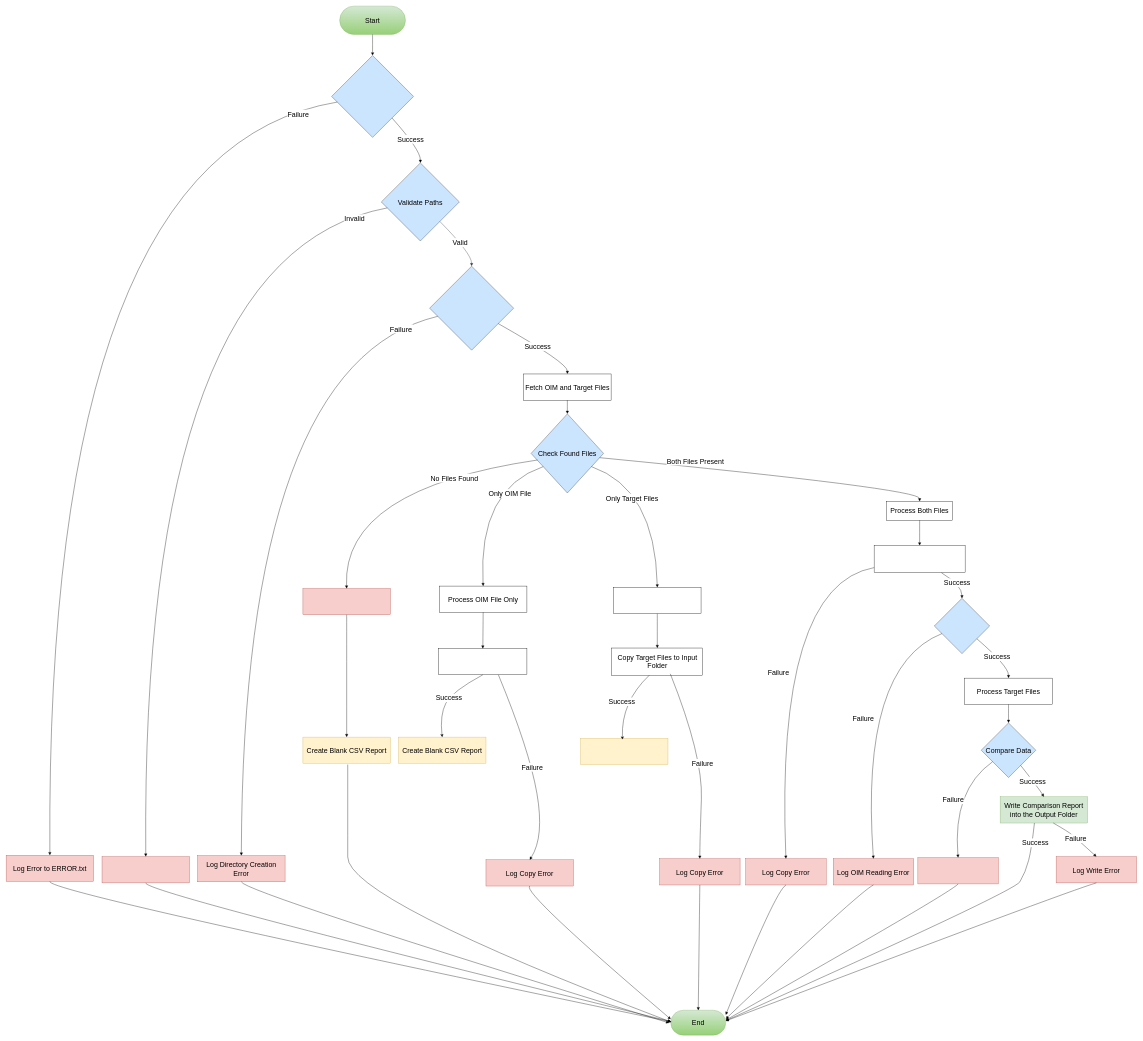
The diagram is 1143 pixels wide and 1041 high, and some of its shapes have lost their labels. Each missing label, with the centre of its shape:
"Copy All Files to Input Folder" goes at (x=919, y=559).
"Copy OIM to Input Folder" goes at (x=482, y=661).
"Create Output Directories" goes at (x=471, y=308).
"Create Target-only Report" goes at (x=624, y=751).
"Load FilePaths.txt file" goes at (x=372, y=96).
"Log Comparison Error" goes at (x=958, y=870).
"Log Missing Paths Error" goes at (x=146, y=869).
"Log No Files Error" goes at (x=346, y=601).
"Process Target Files Only" goes at (x=657, y=600).
"Read OIM Data" goes at (x=962, y=626).
